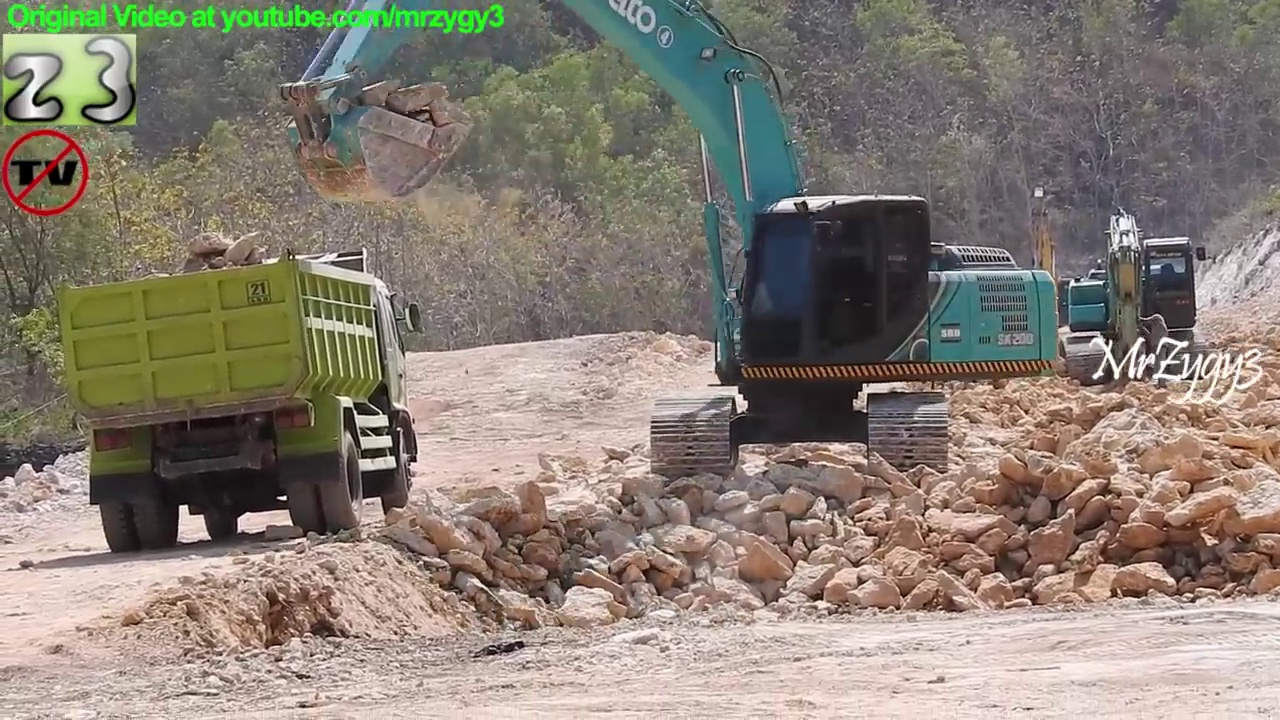excavator: (270, 1, 1065, 490), (993, 181, 1098, 365)
excavator breaker: (1053, 198, 1222, 400)
truck: (48, 238, 427, 557)
worker: (1133, 303, 1178, 395)
